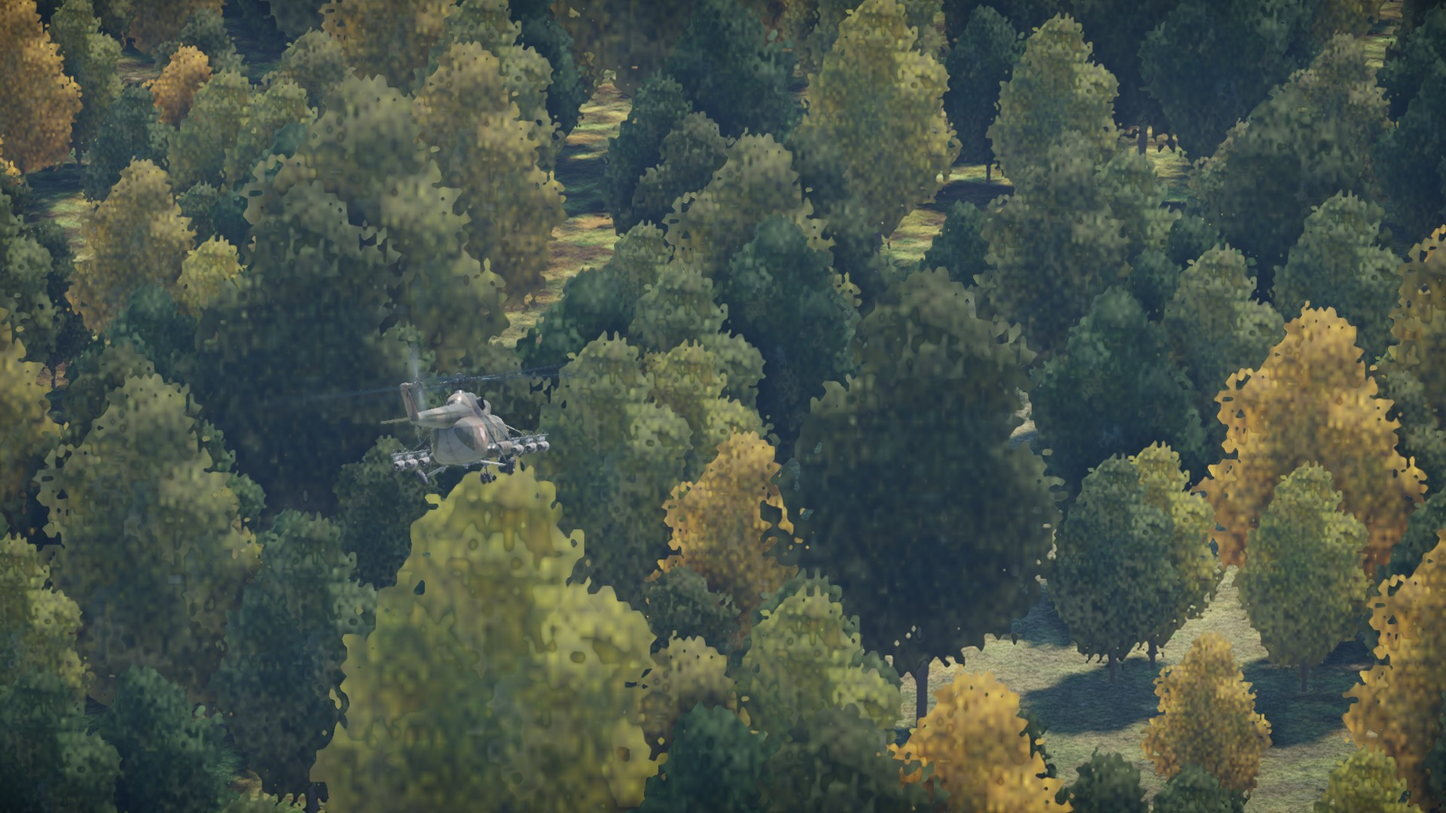mi8: (386, 371, 551, 485)
